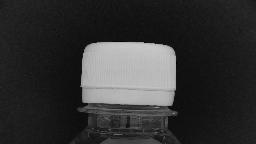Good Cap: (70, 34, 184, 120)
